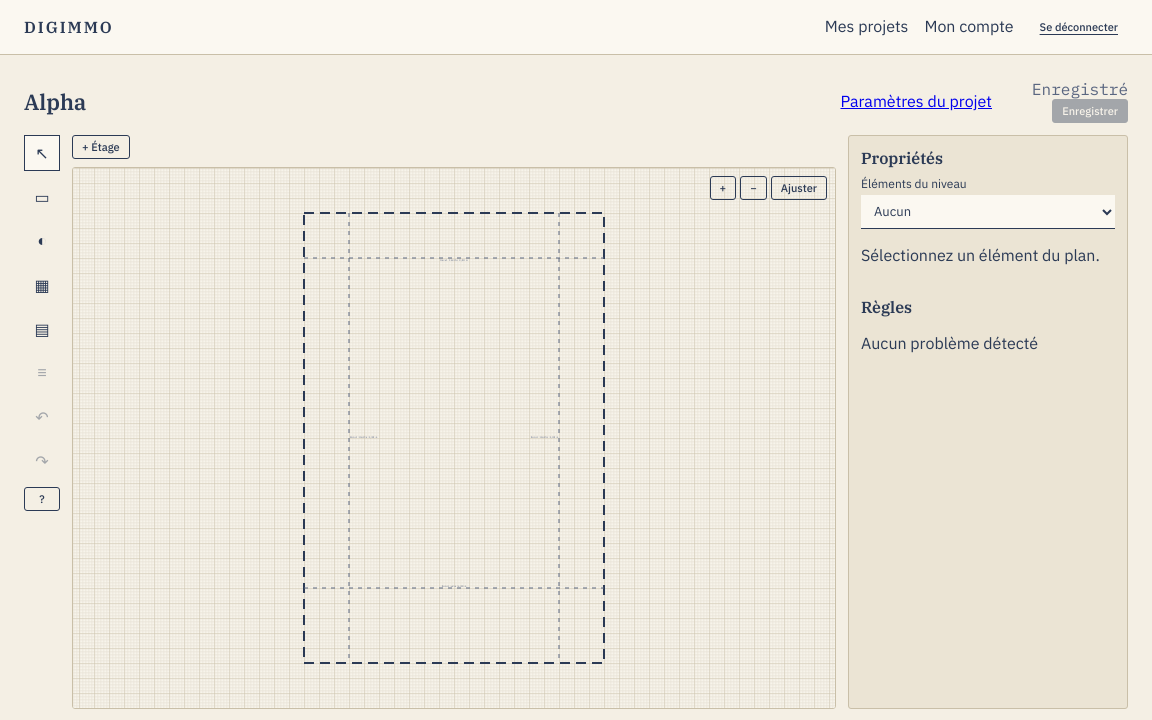
Scenario: page de l'éditeur › le lien « Paramètres du projet » mène au formulaire
Click the link "Paramètres du projet" at (916,101), box [840,91,992,111]
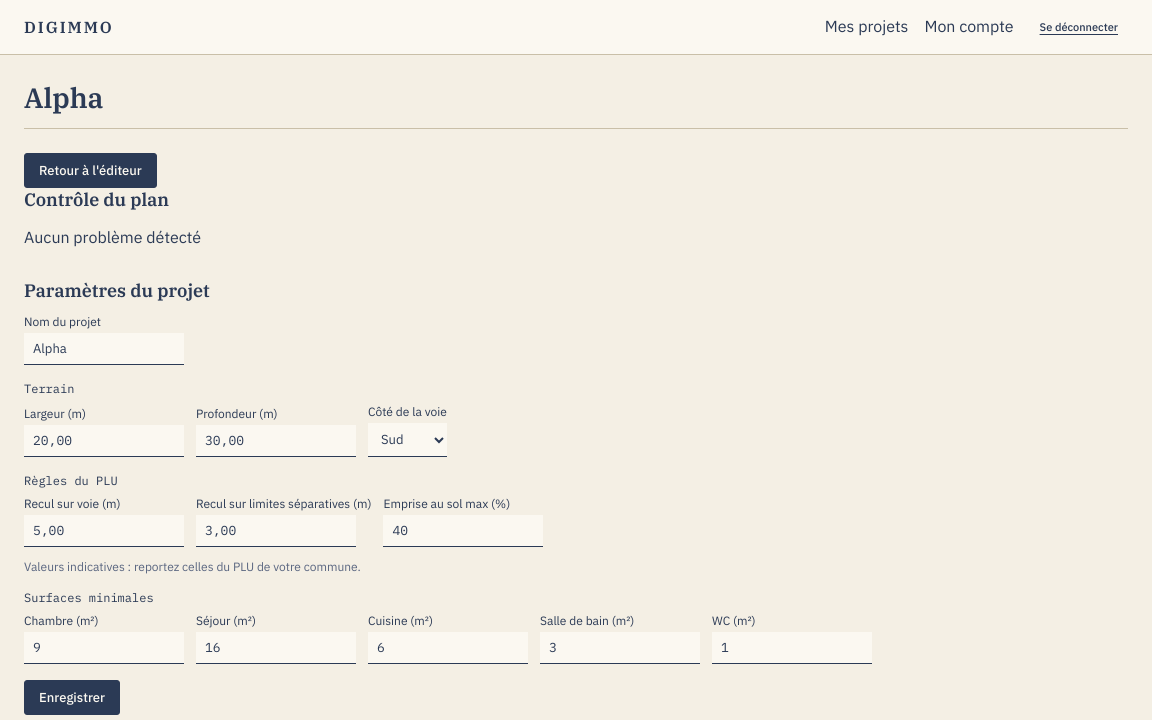
Check: the field labelled "Largeur (m)" is shown, box [24,425,184,457]
